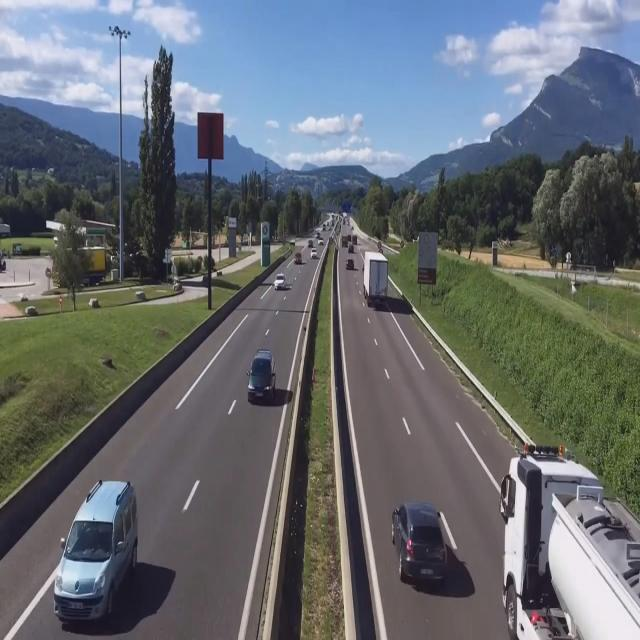car: (50, 478, 139, 634), (392, 501, 449, 595), (248, 349, 278, 405), (274, 272, 288, 292)
truck: (497, 439, 640, 640), (362, 249, 387, 312)
